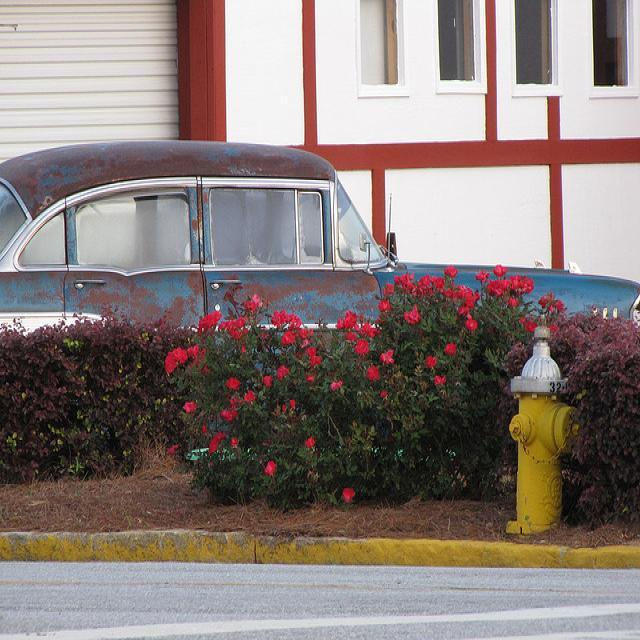fire_hydrant: (504, 314, 580, 534)
